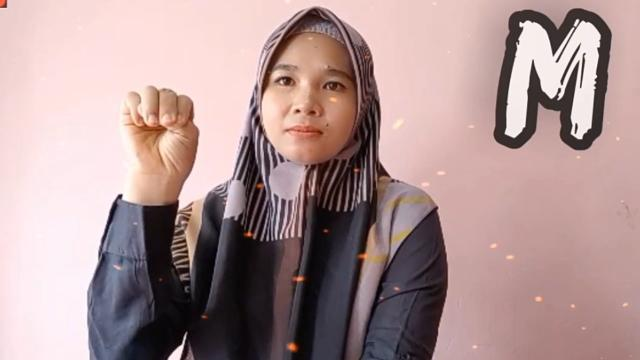M: (104, 57, 200, 191)
